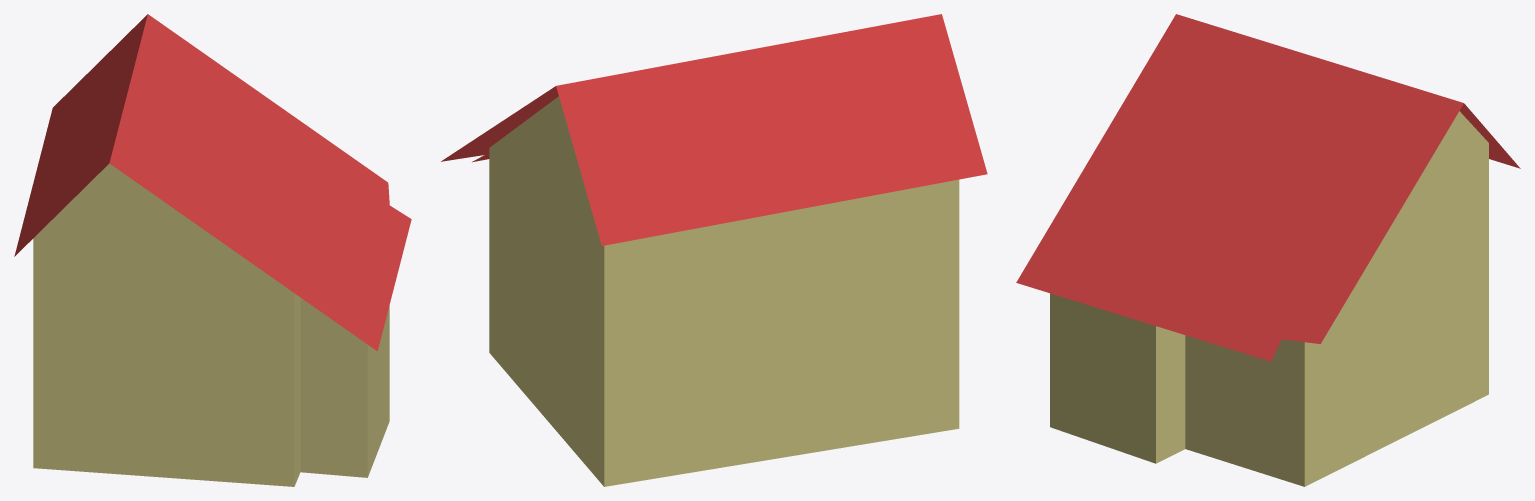
The picture shows the model from 3 angles, left to right: view 1: azimuth 30°, elevation 25°; view 2: azimuth 150°, elevation 25°; view 3: azimuth 270°, elevation 25°; orthographic projection. The views are drawn at different scales.
Bounding box in the file's own units: 18.47 × 19.24 × 13.35.
